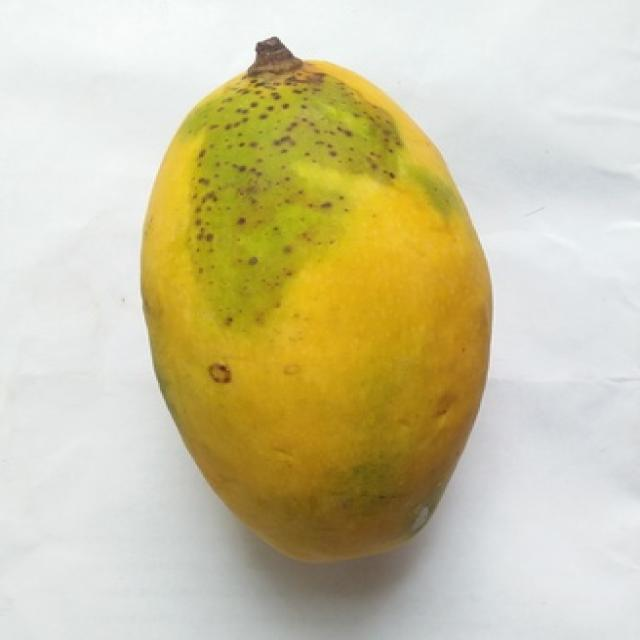Mango: (140, 38, 486, 560)
